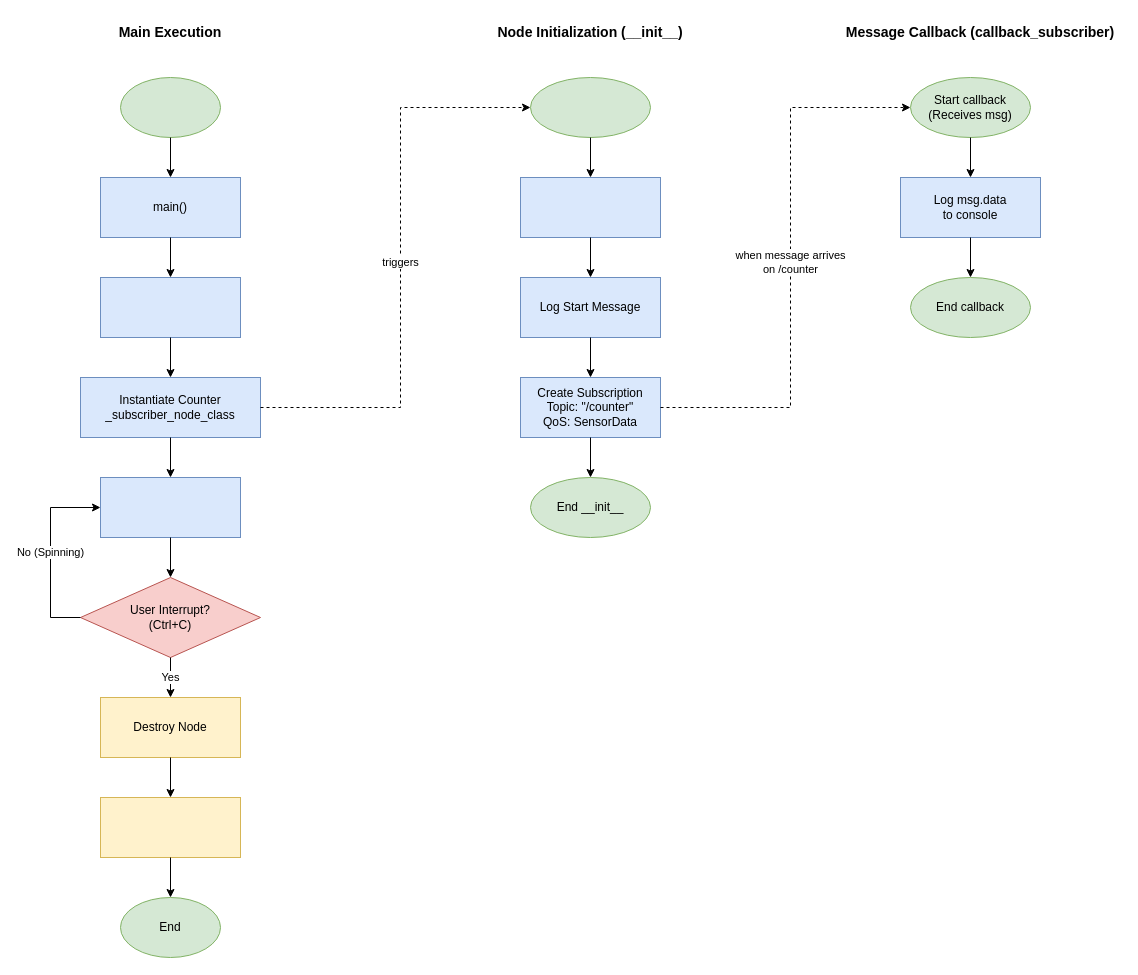
Image size: 1138x975. Some labels were removed from this diagram. Here are the shapes that lost their labels. From the top down, the centre of each, then its label:
point (170, 107): Start
point (590, 107): Start __init__
point (590, 207): Initialize Node "counter_subscriber"
point (170, 307): Initialize rclpy
point (170, 507): rclpy.spin(node)
point (170, 827): Shutdown rclpy
